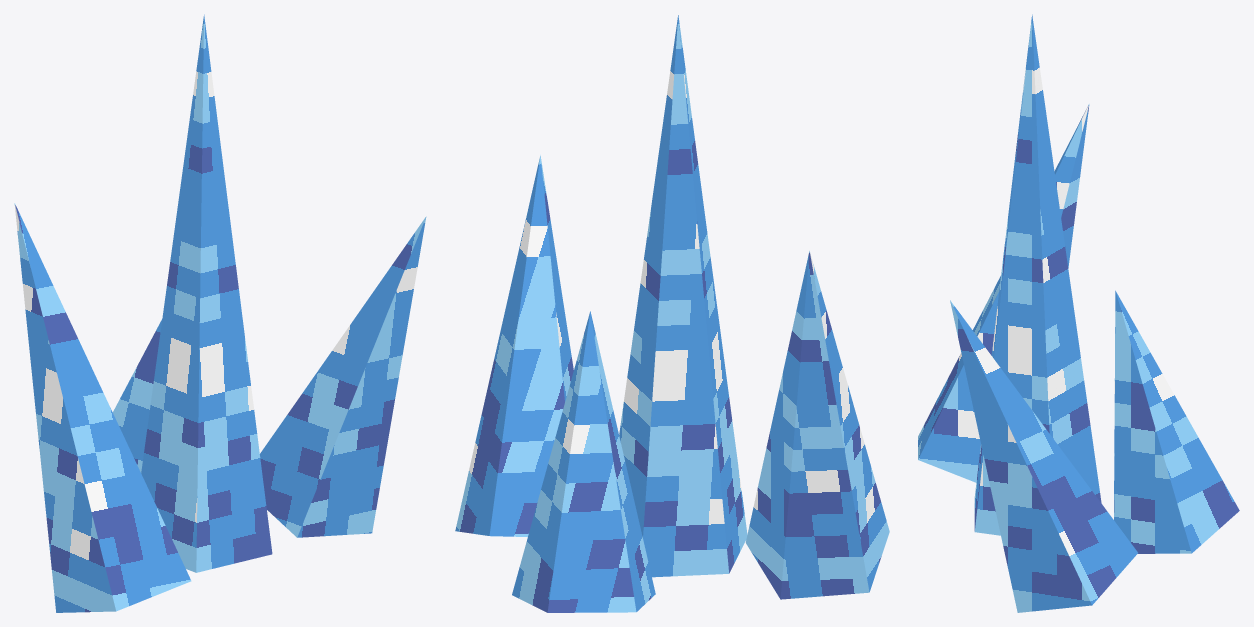
File: a44_cristal_azul_gigante.glb
3 renders of one model, left to right at view 1: azimuth 30°, elevation 25°; view 2: azimuth 150°, elevation 25°; view 3: azimuth 270°, elevation 25°, orthographic. The views are drawn at different scales.
Visible parts, largest first — view 1: a44_cristal_azul_gigante; view 2: a44_cristal_azul_gigante; view 3: a44_cristal_azul_gigante.
Part boxes in pixels (box(x1,y1,x2,y2)): a44_cristal_azul_gigante: box(14, 14, 426, 612); a44_cristal_azul_gigante: box(455, 15, 889, 612); a44_cristal_azul_gigante: box(918, 14, 1239, 612).
Size of the model in its own units: 0.9887 by 1.47 by 0.8155.
1 material, 1 textured.
